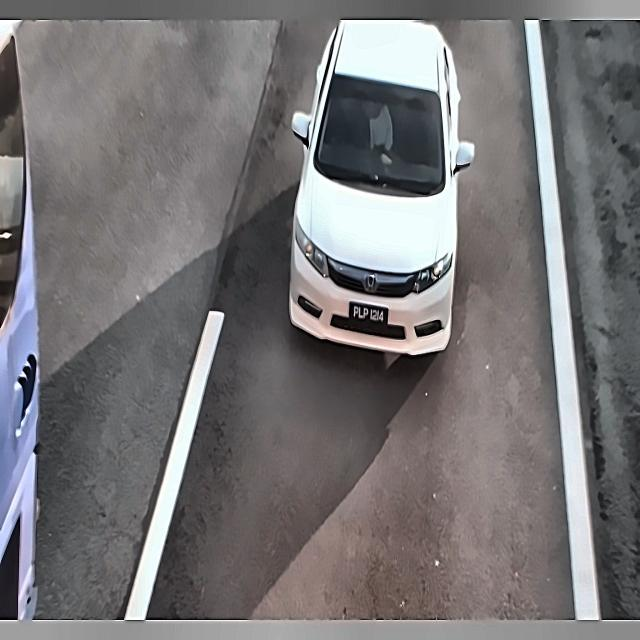car: (346, 294, 393, 329)
